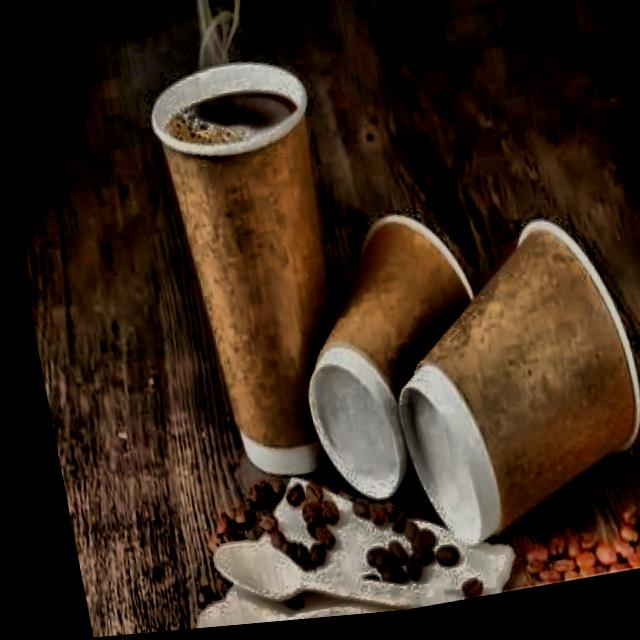Cup: (132, 47, 362, 510), (361, 194, 640, 573), (261, 175, 515, 536)
